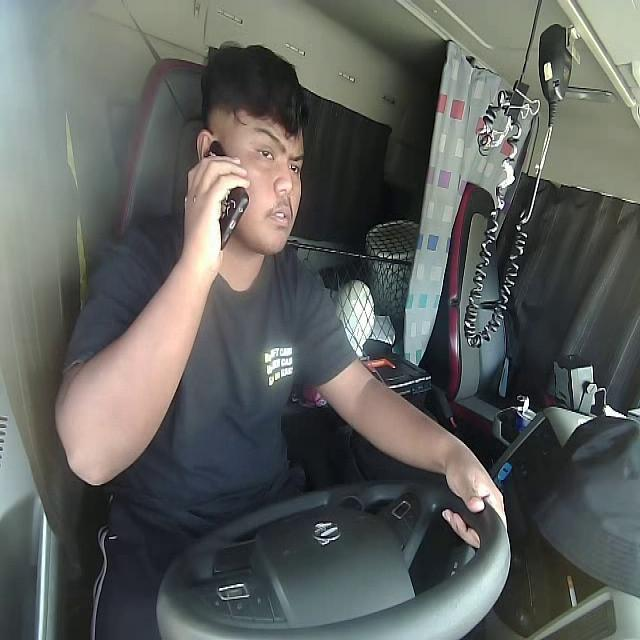phone: (193, 139, 249, 252)
